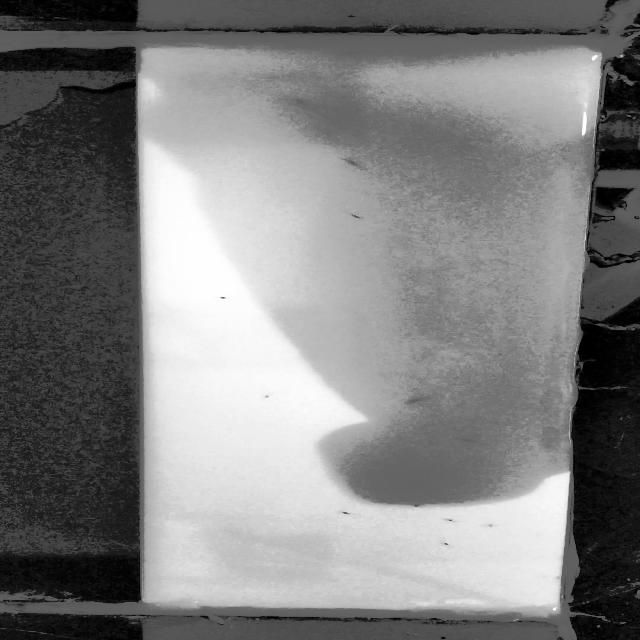shrimp: (330, 49, 368, 59), (210, 292, 242, 303), (338, 208, 366, 220), (402, 394, 428, 406), (462, 434, 486, 446), (336, 153, 360, 165), (292, 94, 312, 107), (334, 509, 356, 517), (479, 523, 504, 530), (437, 516, 460, 523), (410, 503, 431, 510), (255, 394, 279, 400), (444, 540, 456, 546)
